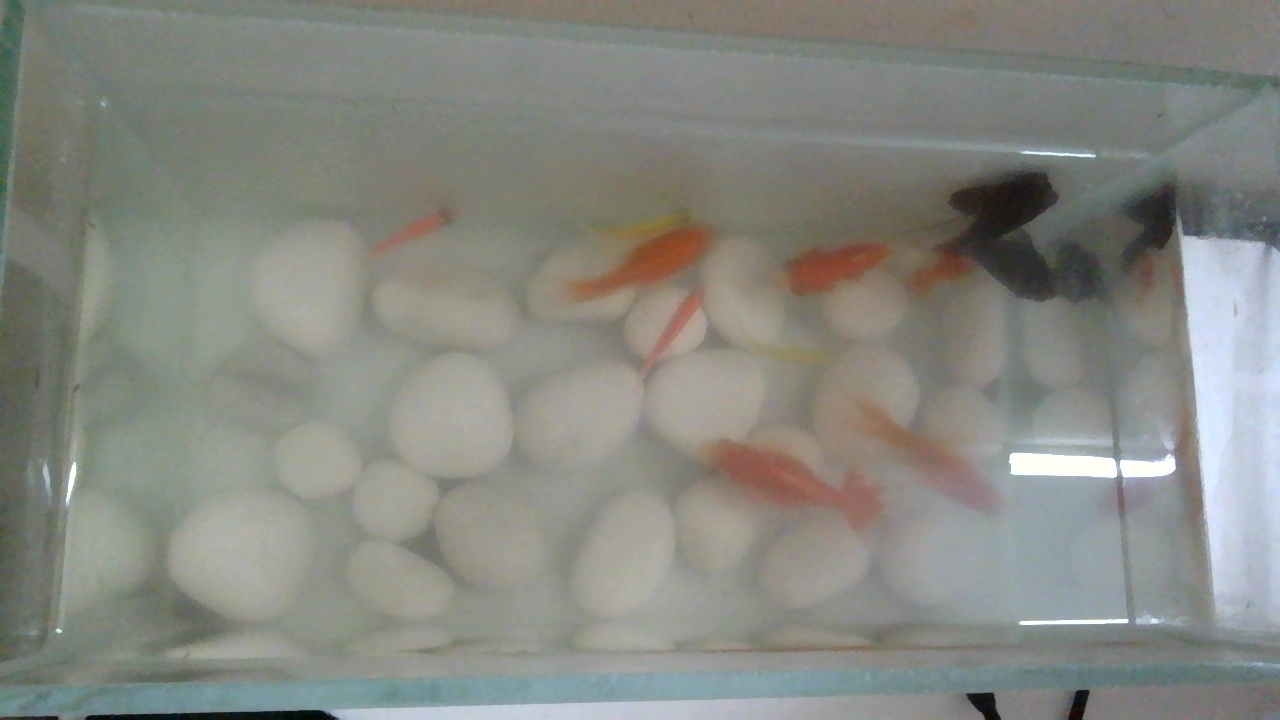fish: (528, 214, 723, 375), (779, 236, 893, 300)
